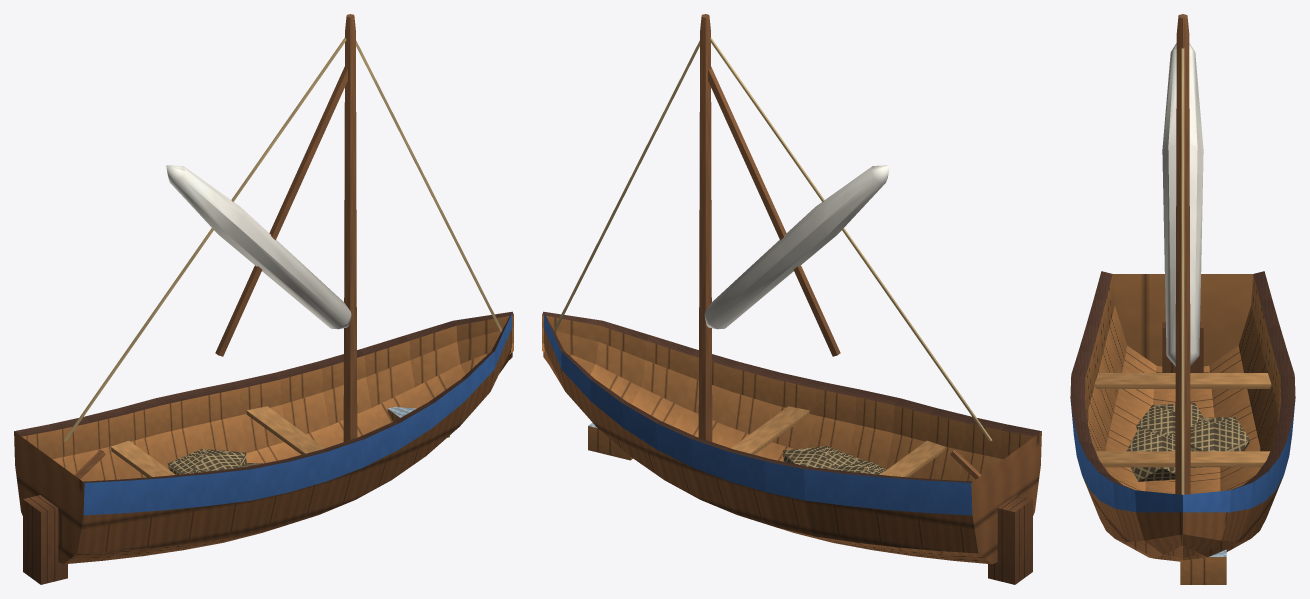
The model's file is boat_fishing_01.glb.
The picture shows the model from 3 angles, left to right: view 1: azimuth 30°, elevation 25°; view 2: azimuth 150°, elevation 25°; view 3: azimuth 270°, elevation 25°; orthographic projection. The views are drawn at different scales.
Parts seen in each view (by area): view 1: boat_fishing_01; view 2: boat_fishing_01; view 3: boat_fishing_01.
Boxes of the visible parts, left/top/right/bottom form: boat_fishing_01: left=14, top=14, right=513, bottom=584; boat_fishing_01: left=542, top=14, right=1041, bottom=584; boat_fishing_01: left=1070, top=14, right=1295, bottom=584.
Size of the model in its own units: 6.22 by 6 by 2.19.
1 material, 1 textured.
